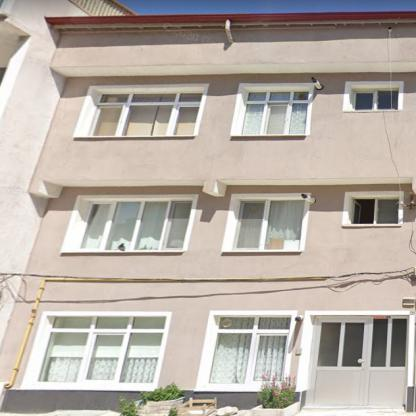door: (305, 315, 408, 408)
window: (27, 316, 165, 384), (66, 197, 194, 251), (200, 314, 294, 385), (81, 87, 203, 136), (231, 197, 306, 252), (238, 87, 309, 134), (349, 196, 400, 225), (349, 84, 400, 111)
